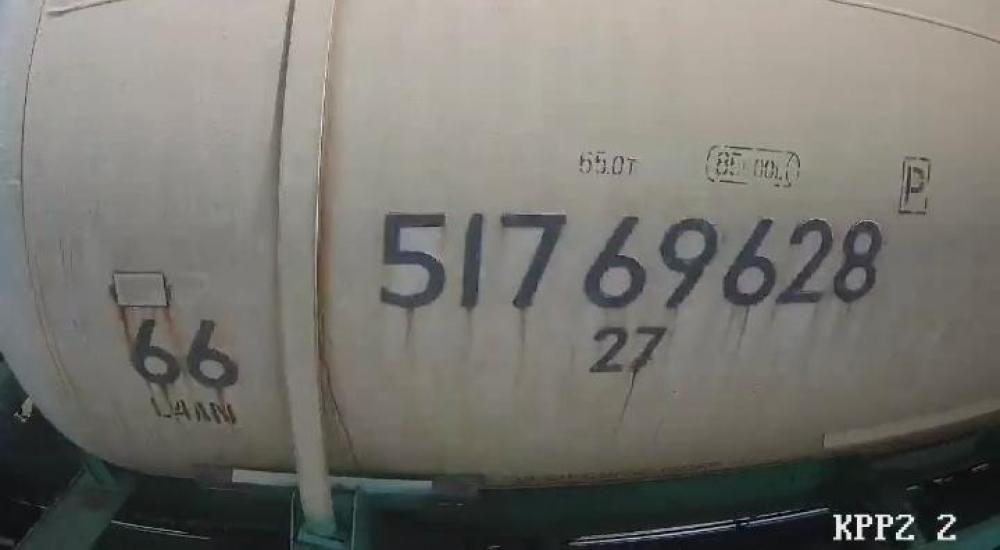Wagon-number: (370, 203, 886, 317)
